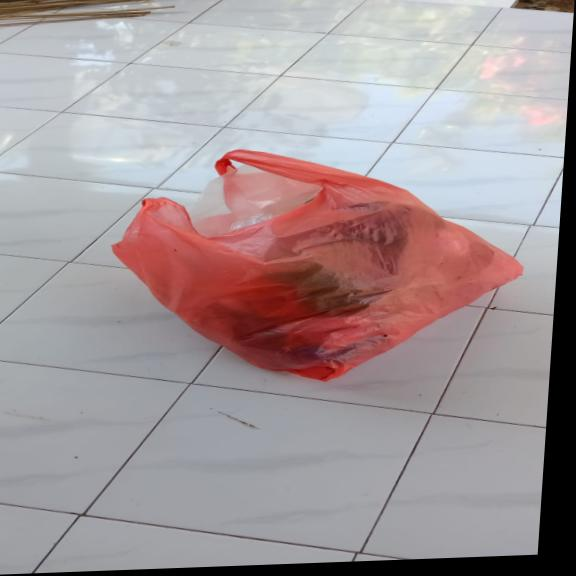Plastik: (102, 139, 534, 389)
